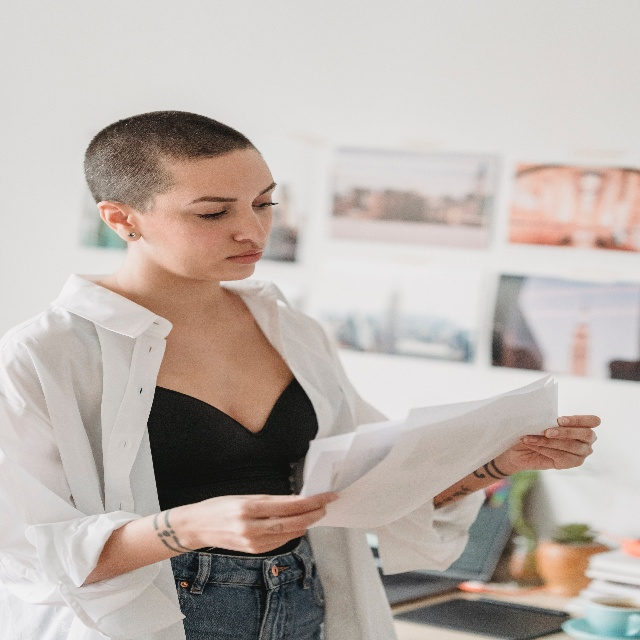Sin_guantes: (195, 491, 339, 554), (507, 415, 601, 471)
